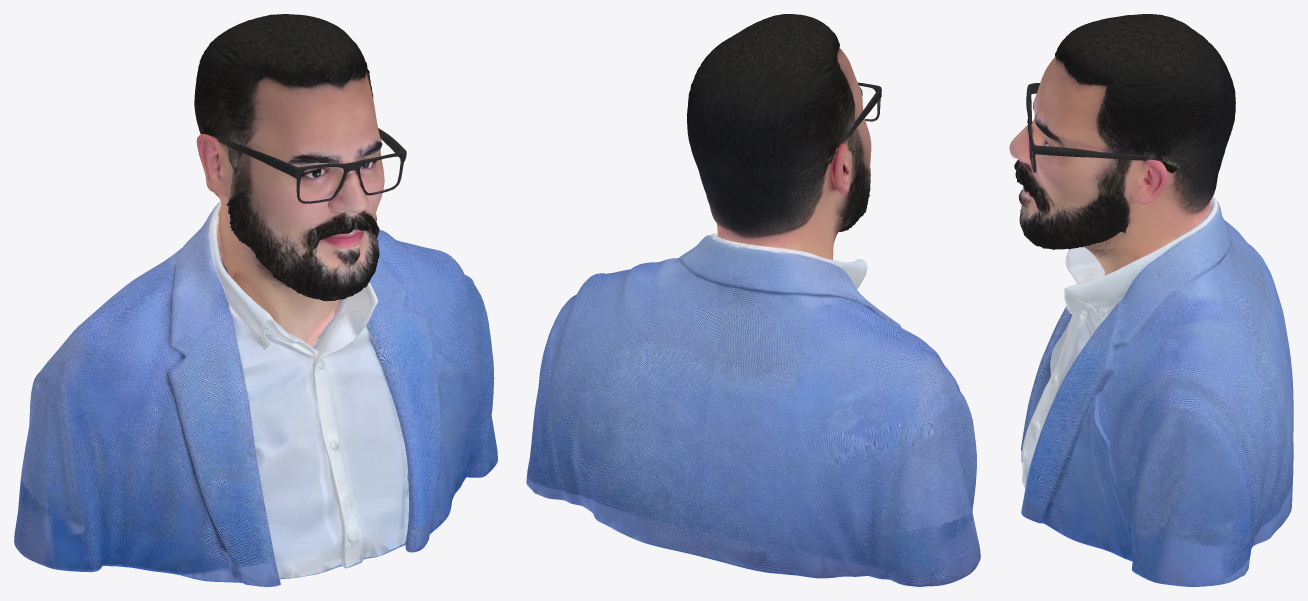
Rendered from busto-jonatas.min.1k.glb.
The picture shows the model from 3 angles, left to right: view 1: azimuth 30°, elevation 25°; view 2: azimuth 150°, elevation 25°; view 3: azimuth 270°, elevation 25°; orthographic projection. The views are drawn at different scales.
Visible parts, largest first — view 1: mesh_node; view 2: mesh_node; view 3: mesh_node.
Boxes of the visible parts, box(x1,y1,x2,y2) form: mesh_node: box(14, 14, 497, 586); mesh_node: box(526, 14, 980, 586); mesh_node: box(1009, 14, 1293, 586).
Size of the model in its own units: 0.388 by 0.4 by 0.2236.
Materials: 1 (1 with a texture image).
